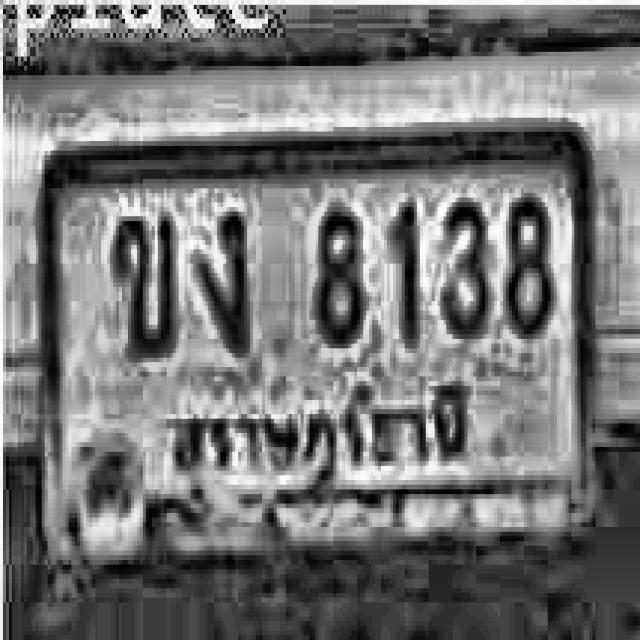license-plate: (31, 130, 616, 555)
